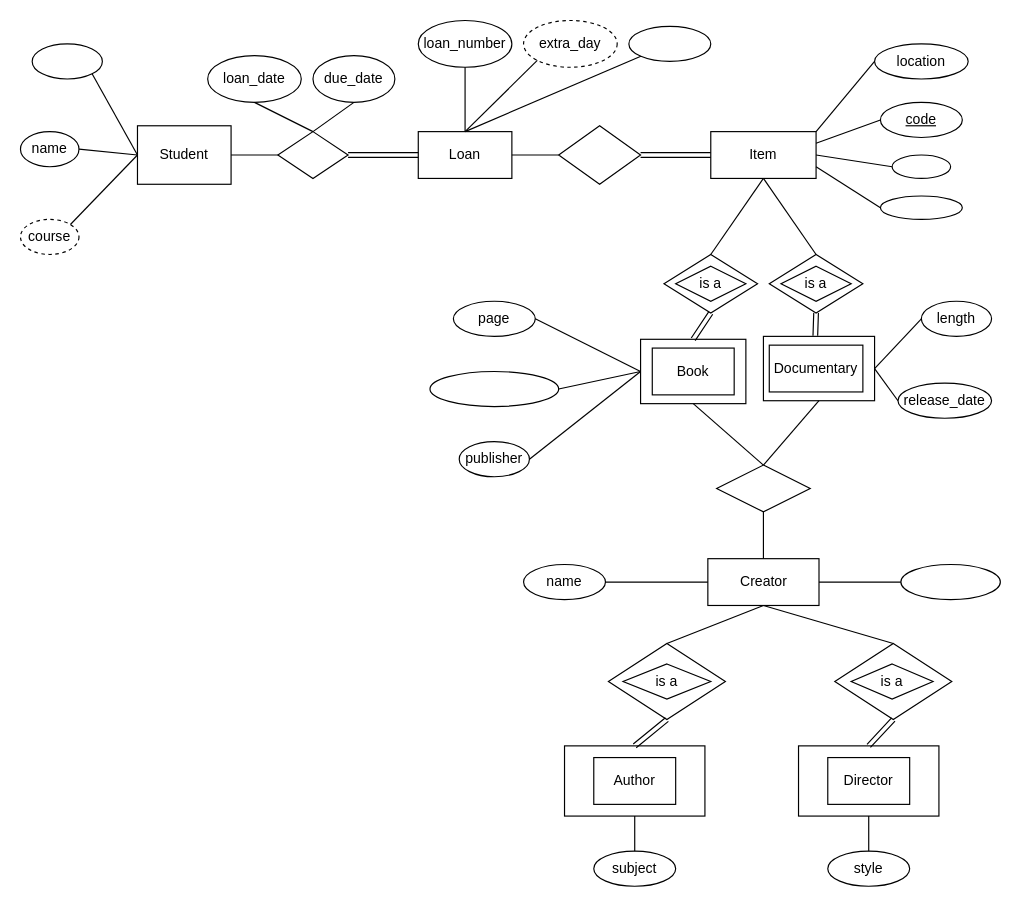
Some shapes in this 1021 by 907 pixel diagram are drawn without their labels. The centre of each missing label's shape, as x and y in pixels:
belongs to: the point at 762,488
description: the point at 920,207
have: the point at 312,154
id: the point at 66,61
include: the point at 599,154
nationality: the point at 950,581
publication_date: the point at 494,388
return_date: the point at 669,43
title: the point at 921,166
